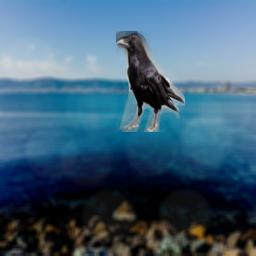Crow: (116, 31, 185, 132)
